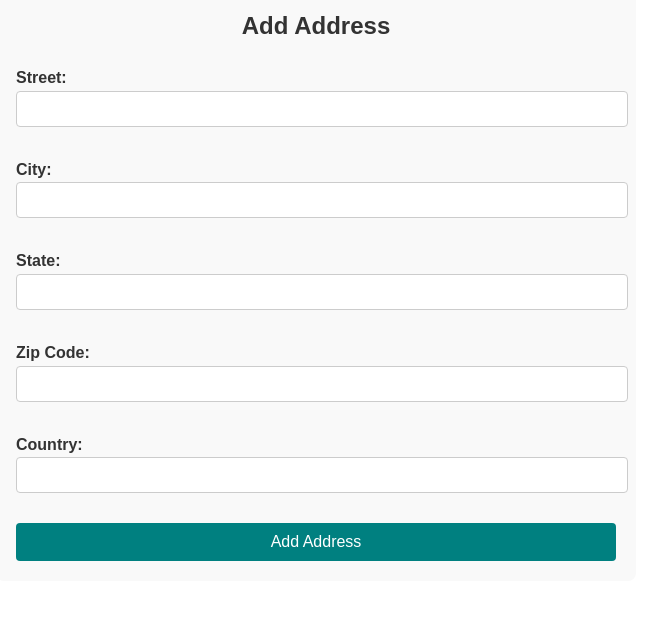
Test: AddressPage › debería mostrar un mensaje de error si la API falla
This screenshot has width=645, height=629.
Type "Calle 1" into the field labelled "Street:" at (322, 109), box [16,91,628,127]
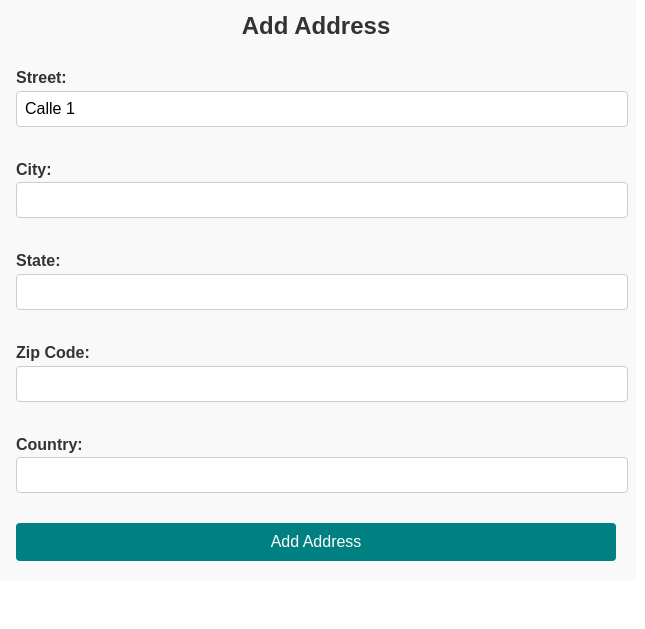
Type "Ciudad X" into the field labelled "City:" at (322, 200), box [16,182,628,218]
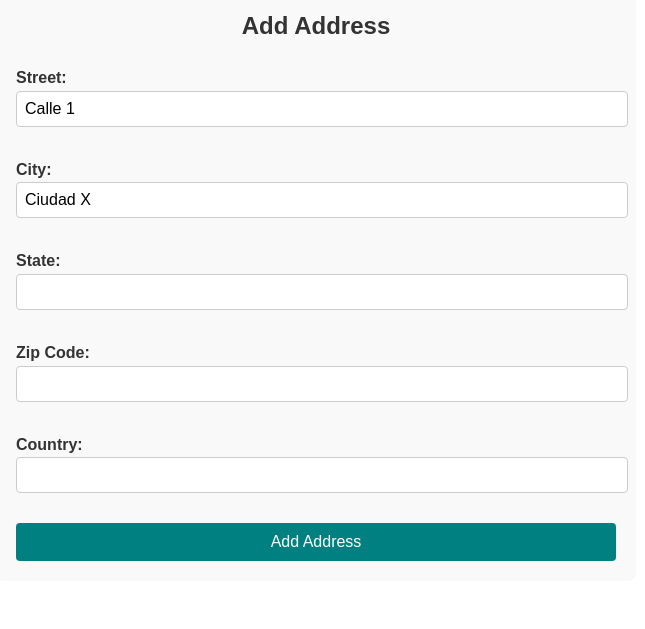
Type "Estado Y" into the field labelled "State:" at (322, 292), box [16,274,628,310]
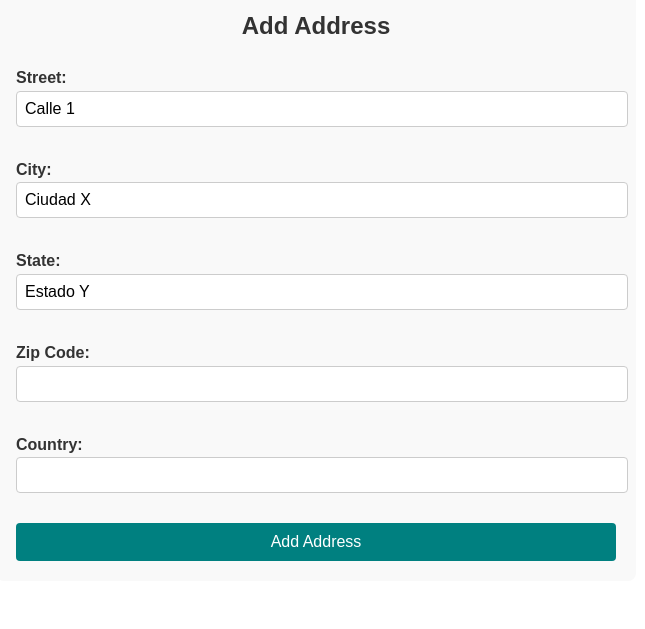
Type "12345" into the field labelled "Zip Code:" at (322, 384), box [16,366,628,402]
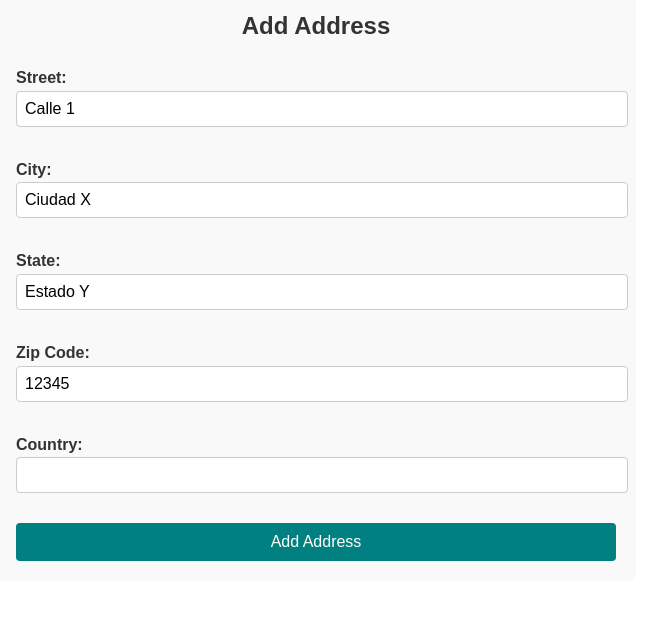
Type "Pais Z" into the field labelled "Country:" at (322, 475), box [16,457,628,493]
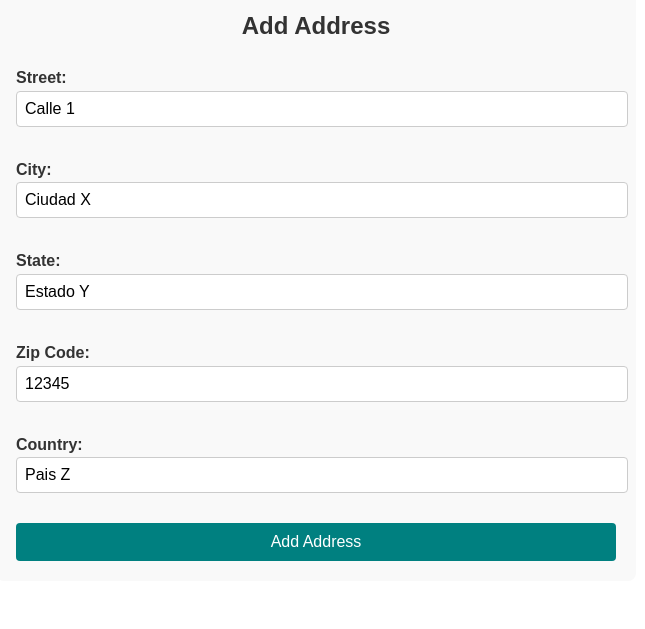
Click the button "Add Address" at (316, 542), box [16,523,616,561]
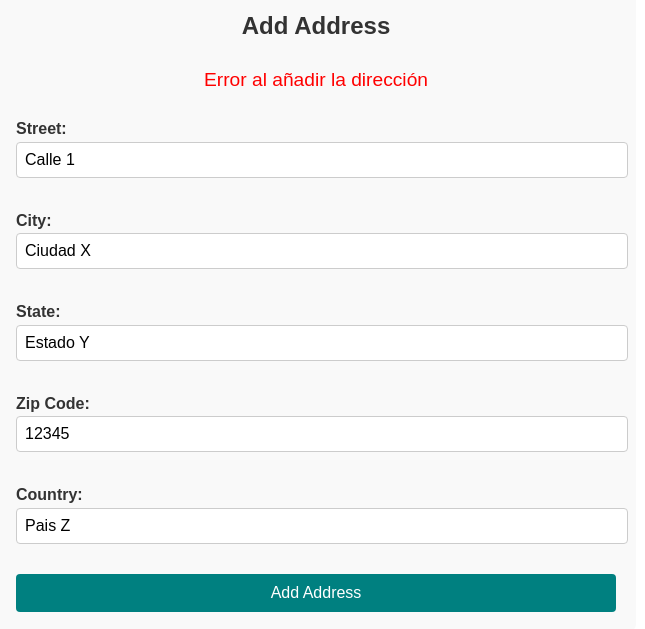
Now the text "Error al añadir la dirección" is shown, box [204,69,428,90]
